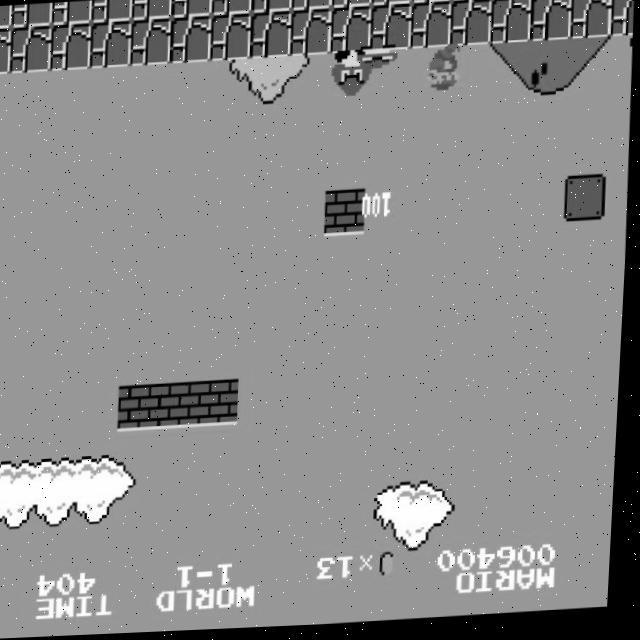1- brick_block: (325, 191, 369, 240), (120, 385, 164, 433), (200, 381, 244, 428), (160, 383, 204, 430)
11- little_mario: (421, 46, 467, 98)
17- undestructible_block: (449, 2, 493, 51), (409, 4, 453, 53), (369, 6, 413, 55), (329, 8, 373, 57), (289, 10, 333, 59), (9, 25, 53, 74), (489, 0, 533, 48), (249, 13, 293, 61), (209, 15, 253, 63), (169, 17, 213, 65), (49, 23, 92, 72), (129, 19, 172, 67), (89, 21, 132, 69), (529, 0, 573, 46), (569, 0, 613, 44), (610, 0, 635, 42), (50, 1, 92, 26), (10, 3, 52, 28), (90, 0, 132, 24), (130, 0, 172, 22), (170, 0, 212, 20), (210, 0, 252, 18), (251, 0, 292, 16), (0, 28, 13, 74), (290, 0, 332, 13), (330, 0, 372, 11), (370, 0, 412, 9), (410, 0, 452, 7), (0, 6, 12, 28), (450, 0, 492, 5), (490, 0, 532, 3), (530, 0, 572, 0)
3- empty_block: (565, 178, 609, 227)
8- goomba: (330, 51, 376, 103)
